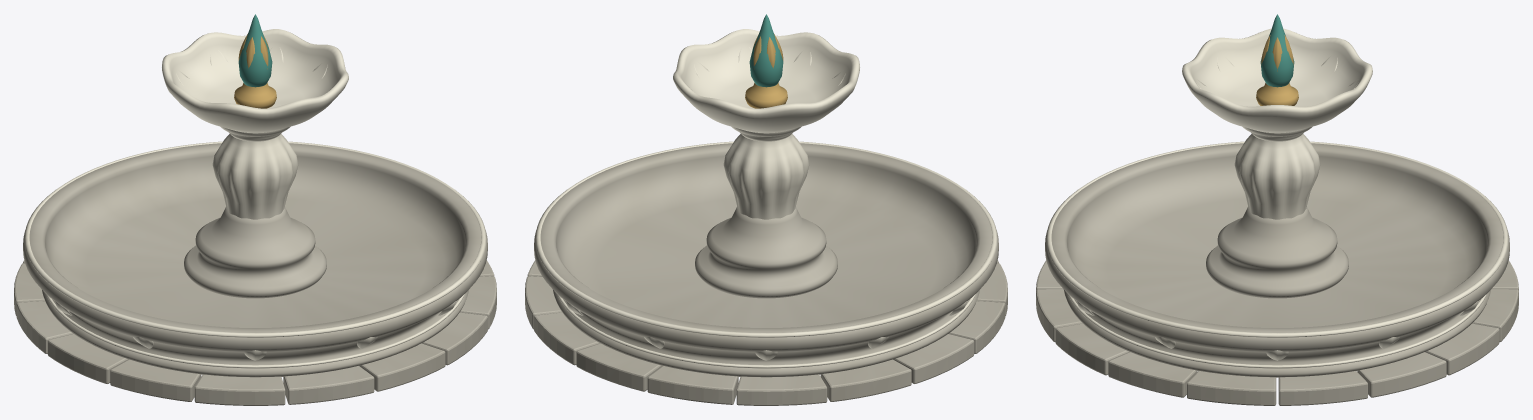
Rendered from fountain.glb.
The picture shows the model from 3 angles, left to right: view 1: azimuth 30°, elevation 25°; view 2: azimuth 150°, elevation 25°; view 3: azimuth 270°, elevation 25°; orthographic projection.
Visible parts, largest first — view 1: Warm carved limestone, Ivory relief, Glazed celadon, Aged champagne brass; view 2: Warm carved limestone, Ivory relief, Glazed celadon, Aged champagne brass; view 3: Warm carved limestone, Ivory relief, Glazed celadon, Aged champagne brass.
Part boxes in pixels (x1=…): Warm carved limestone: x1=14, y1=143, x2=496, y2=405; Ivory relief: x1=24, y1=29, x2=486, y2=368; Glazed celadon: x1=238, y1=14, x2=272, y2=87; Aged champagne brass: x1=234, y1=34, x2=276, y2=108; Warm carved limestone: x1=525, y1=143, x2=1007, y2=405; Ivory relief: x1=535, y1=29, x2=997, y2=368; Glazed celadon: x1=749, y1=14, x2=783, y2=87; Aged champagne brass: x1=745, y1=34, x2=787, y2=108; Warm carved limestone: x1=1036, y1=143, x2=1518, y2=405; Ivory relief: x1=1046, y1=28, x2=1508, y2=368; Glazed celadon: x1=1260, y1=14, x2=1294, y2=87; Aged champagne brass: x1=1256, y1=35, x2=1298, y2=105.
Bounding box in the file's own units: 3.72 × 2.47 × 3.72.
